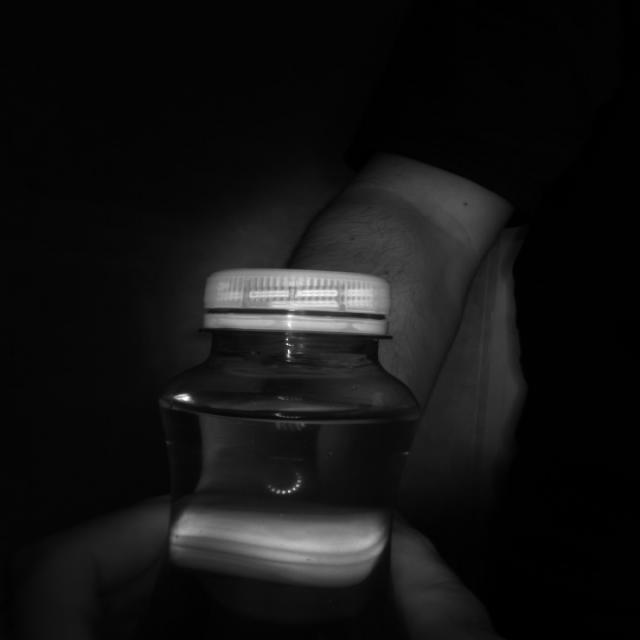Not Good: (206, 268, 390, 338)
